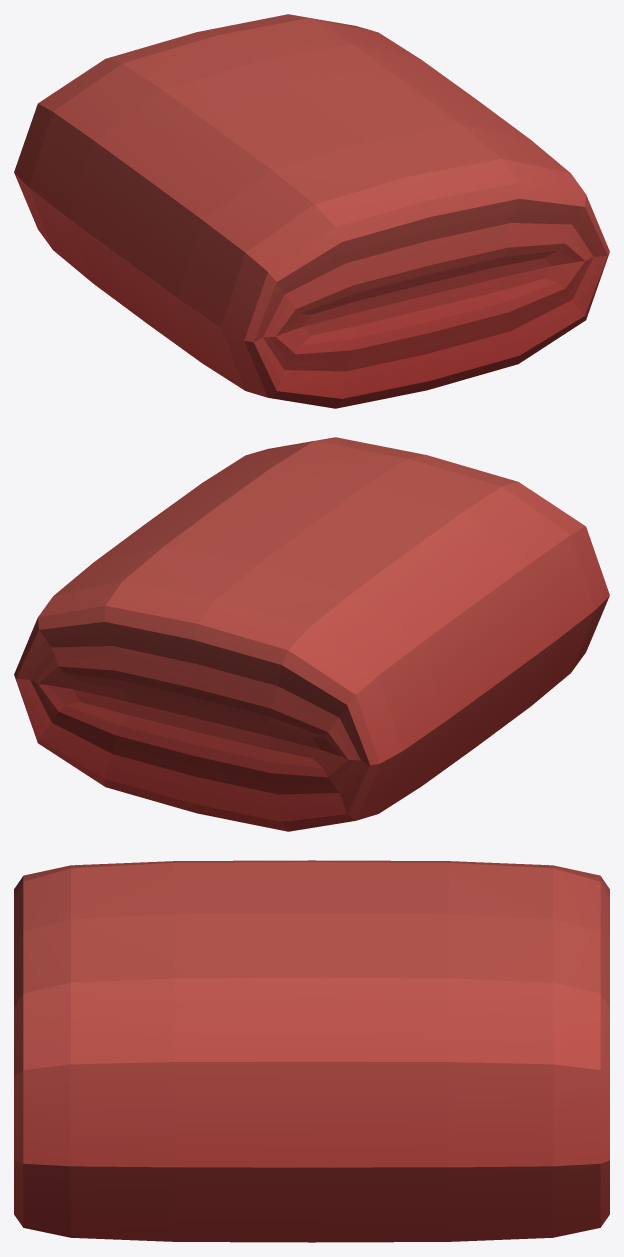
The model's file is Clothes2_C2.fbx.
3 views of the same model, one above another, from view 1: azimuth 30°, elevation 25°; view 2: azimuth 150°, elevation 25°; view 3: azimuth 270°, elevation 25° (orthographic). The views are drawn at different scales.
Visible parts, largest first — view 1: Clothes2_C2; view 2: Clothes2_C2; view 3: Clothes2_C2.
Part boxes in pixels (x1,y1,x2,y2): Clothes2_C2: [14, 14, 609, 408]; Clothes2_C2: [14, 437, 609, 831]; Clothes2_C2: [14, 860, 609, 1242].
Size of the model in its own units: 21.86 by 12.06 by 23.8.
